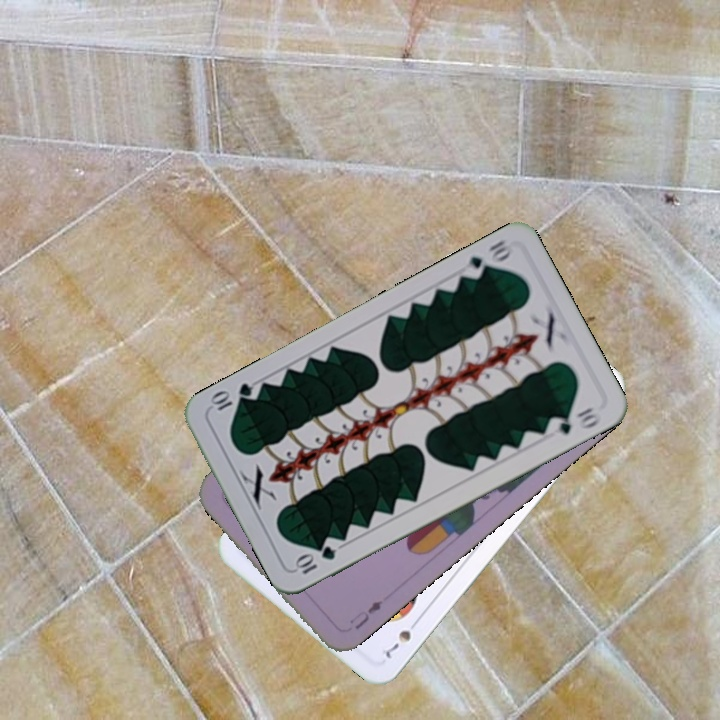EU: (345, 596, 385, 633)
G10: (458, 236, 517, 282), (291, 542, 339, 577)
S7: (378, 614, 423, 664)
